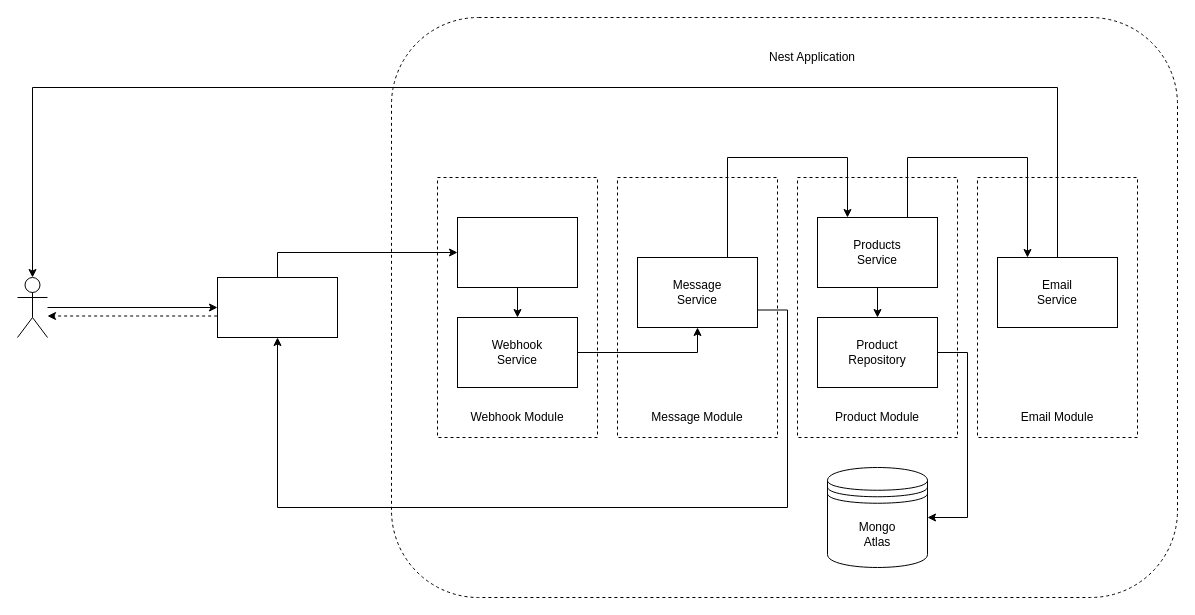
This 1195x615 diagram has some shape labels left out. The box of each missing label's shape, as (x1, y1, x2, y2) in pixels:
Facebook Messenger: (216, 276, 338, 338)
User: (16, 276, 48, 338)
Webhook Controller: (456, 216, 578, 288)
